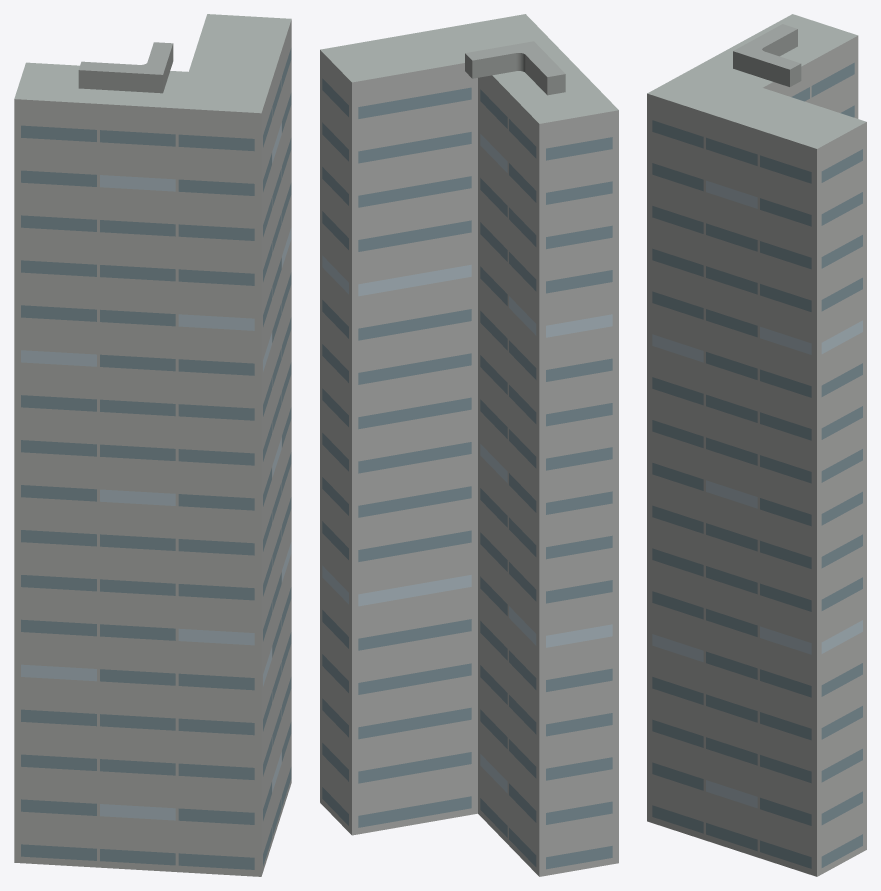
The model's file is fallback-godeok-raemian-hillstate-114.glb.
3 renders of one model, left to right at view 1: azimuth 30°, elevation 25°; view 2: azimuth 150°, elevation 25°; view 3: azimuth 270°, elevation 25°, orthographic. The views are drawn at different scales.
Parts seen in each view (by area): view 1: fallback-godeok-raemian-hillstate-114; view 2: fallback-godeok-raemian-hillstate-114; view 3: fallback-godeok-raemian-hillstate-114.
Part boxes in pixels (bbox=[...]): fallback-godeok-raemian-hillstate-114: bbox=[14, 14, 291, 876]; fallback-godeok-raemian-hillstate-114: bbox=[320, 14, 618, 876]; fallback-godeok-raemian-hillstate-114: bbox=[647, 14, 866, 876].
Bounding box in the file's own units: 39.63 × 102 × 27.25.
